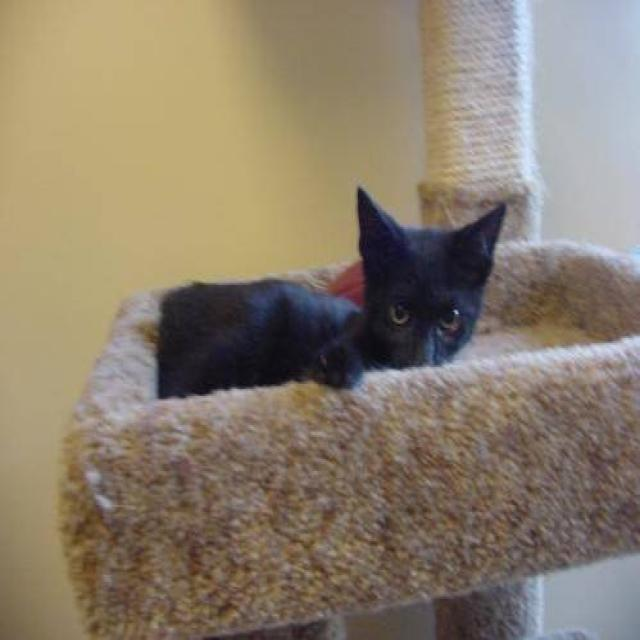cat: (154, 178, 520, 460)
